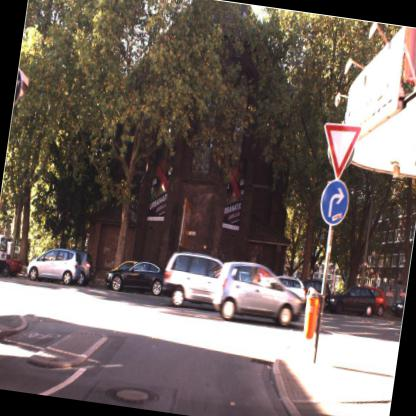mandatory: (314, 176, 352, 232)
other: (314, 114, 364, 180)
